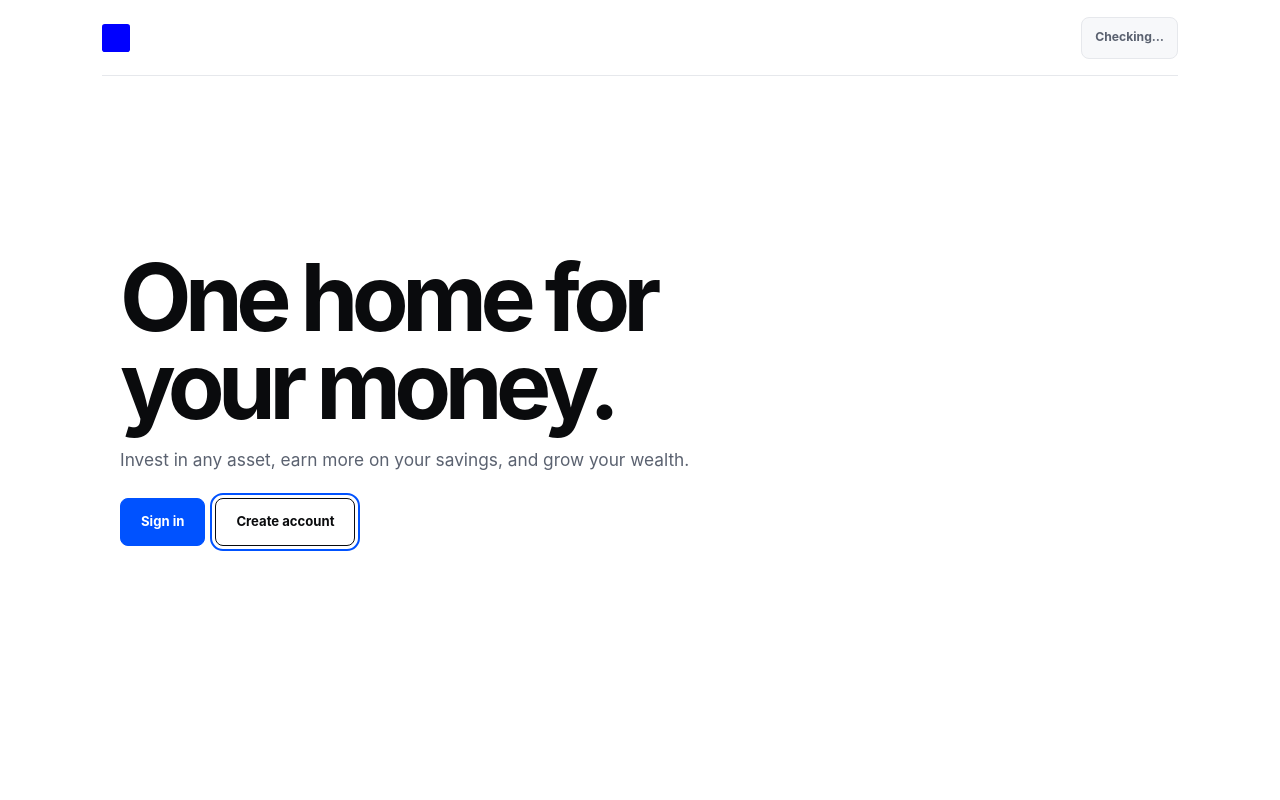
Test: login-state home experience › renders Sign in and Create account as the same CDP email flow while signed out
Expected: the heading "One home for your money." is shown, x1=120 y1=241 x2=655 y2=441
Click the button "Create account" at (285, 522), box x1=215 y1=498 x2=356 y2=546
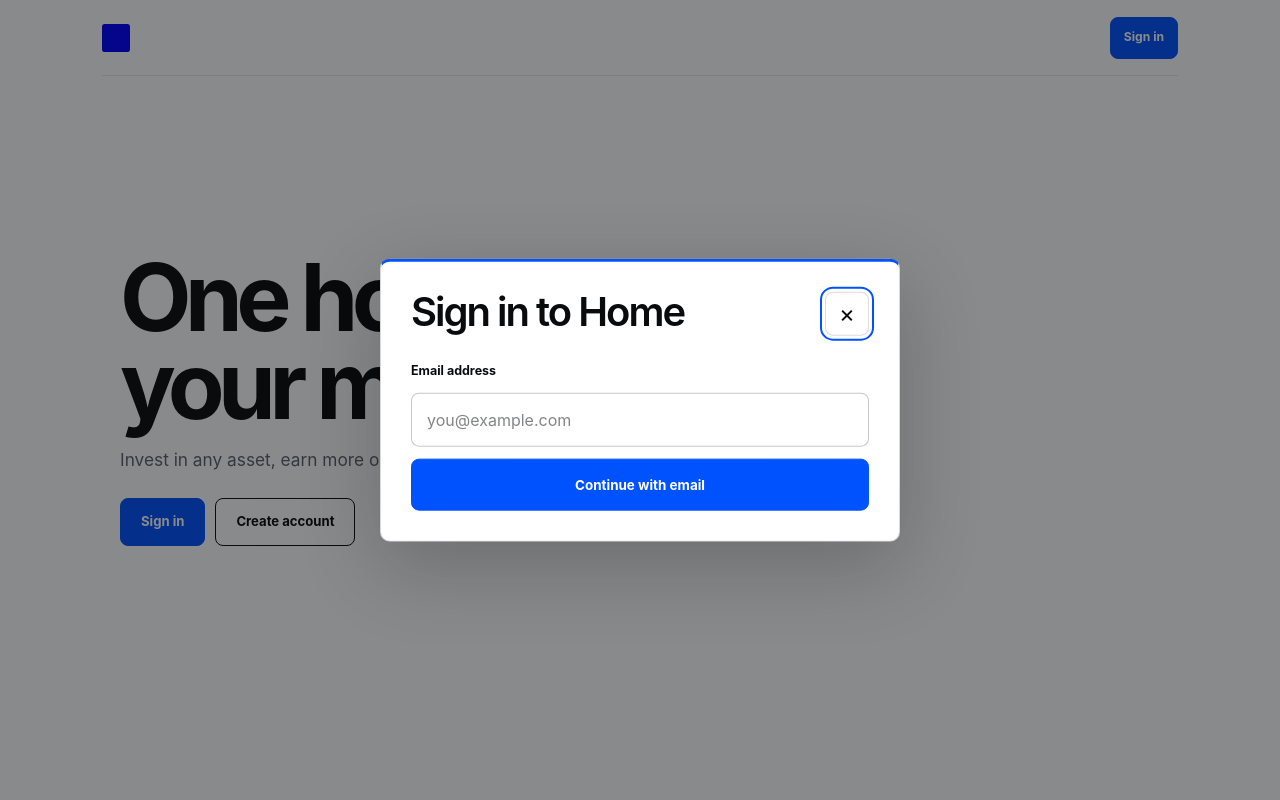
Expected: the field labelled "Email address" is shown, x1=411 y1=392 x2=869 y2=446
